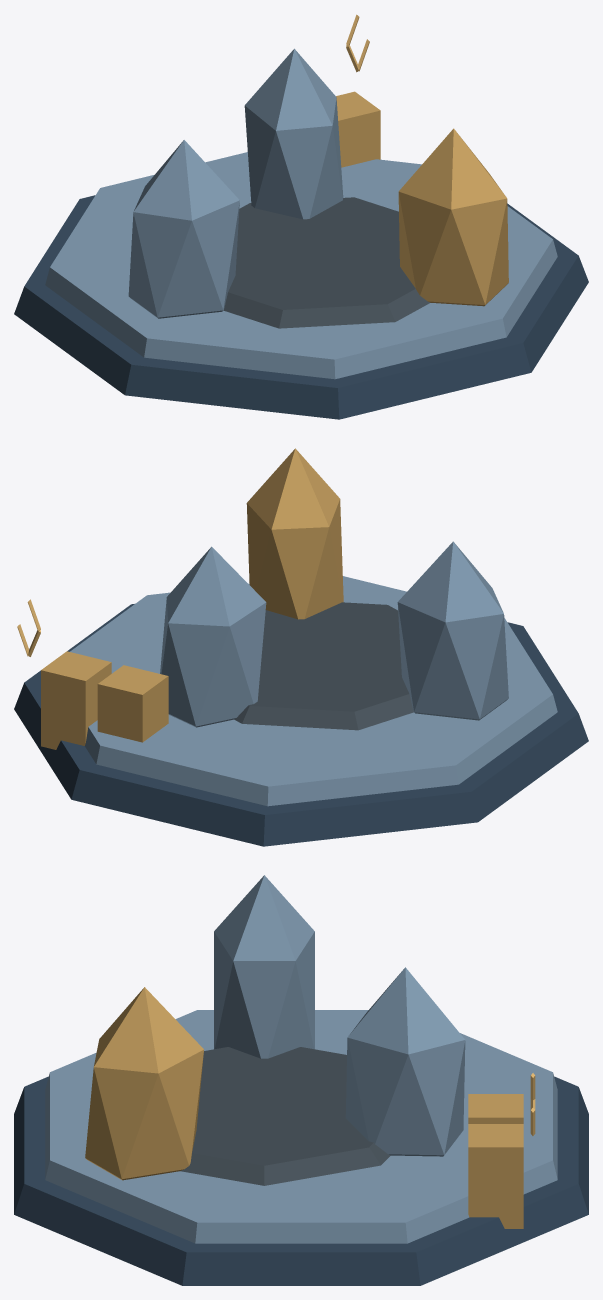
Rendered from Quarry_1.fbx.
3 renders of one model, top to bottom at view 1: azimuth 30°, elevation 25°; view 2: azimuth 150°, elevation 25°; view 3: azimuth 270°, elevation 25°, orthographic. The views are drawn at different scales.
Visible parts, largest first — view 1: Quarry_1; view 2: Quarry_1; view 3: Quarry_1.
Part boxes in pixels (box(x1,y1,x2,y2)): Quarry_1: box(14, 14, 588, 419); Quarry_1: box(14, 448, 588, 846); Quarry_1: box(14, 875, 588, 1285).
Size of the model in its own units: 2.9 by 1.3 by 2.9.
